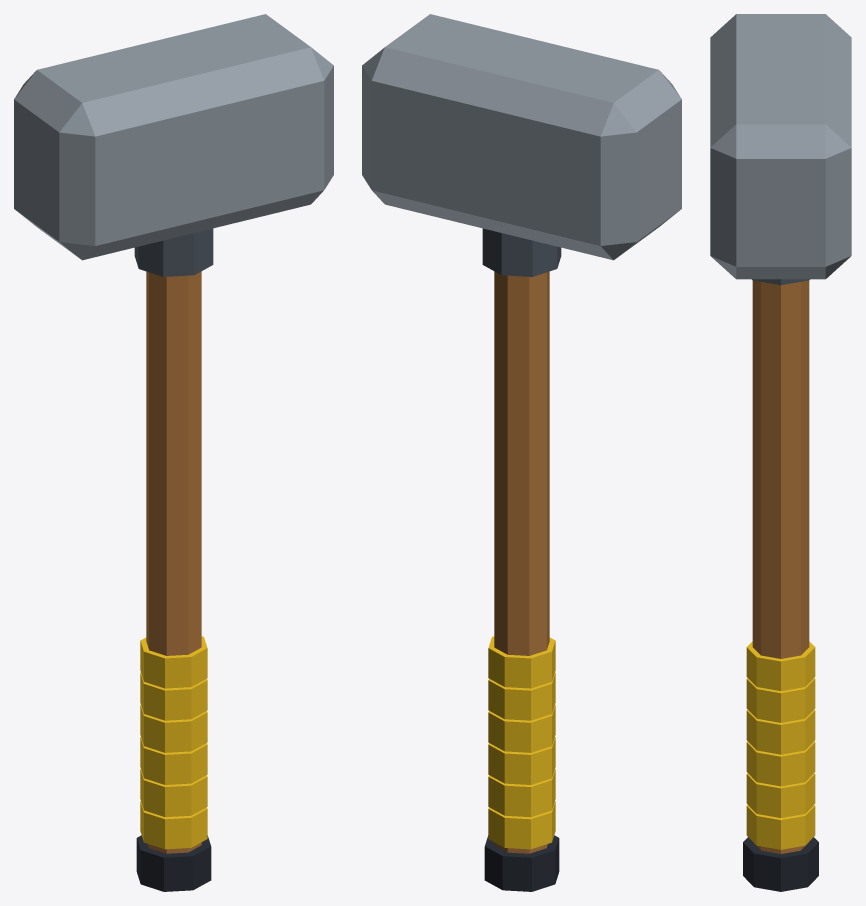
File: Sledgehammer.fbx
The picture shows the model from 3 angles, left to right: view 1: azimuth 30°, elevation 25°; view 2: azimuth 150°, elevation 25°; view 3: azimuth 270°, elevation 25°; orthographic projection.
Visible parts, largest first — view 1: Body; view 2: Body; view 3: Body.
Boxes of the visible parts, left/top/right/bottom form: Body: left=14, top=14, right=333, bottom=891; Body: left=362, top=14, right=681, bottom=891; Body: left=710, top=14, right=851, bottom=891.
Bounding box in the file's own units: 0.42 × 1.2 × 0.19.
